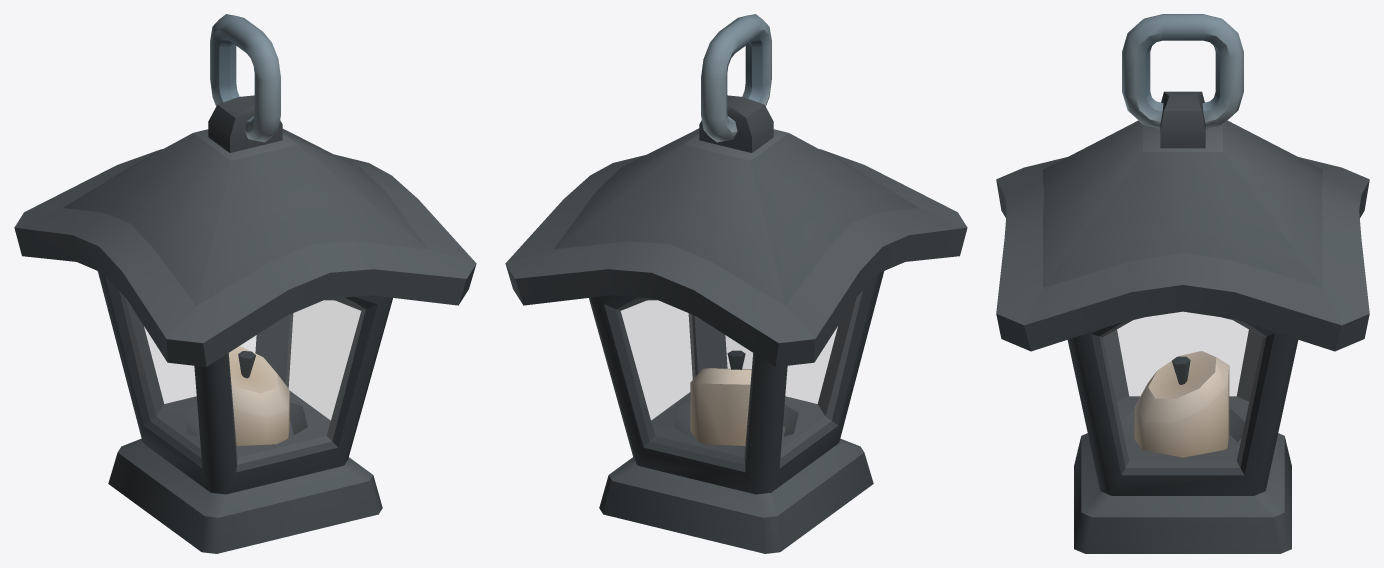
Rendered from lantern.fbx.
The picture shows the model from 3 angles, left to right: view 1: azimuth 30°, elevation 25°; view 2: azimuth 150°, elevation 25°; view 3: azimuth 270°, elevation 25°; orthographic projection. The views are drawn at different scales.
Parts seen in each view (by area): view 1: lantern, lantern_handle; view 2: lantern, lantern_handle; view 3: lantern, lantern_handle.
Boxes of the visible parts, x1,y1,x2,y2 form: lantern: (14, 95, 476, 553); lantern_handle: (210, 14, 280, 142); lantern: (505, 95, 967, 553); lantern_handle: (701, 14, 771, 142); lantern: (996, 91, 1369, 553); lantern_handle: (1122, 14, 1243, 128).
Size of the model in its own units: 75.28 by 111 by 75.28.
